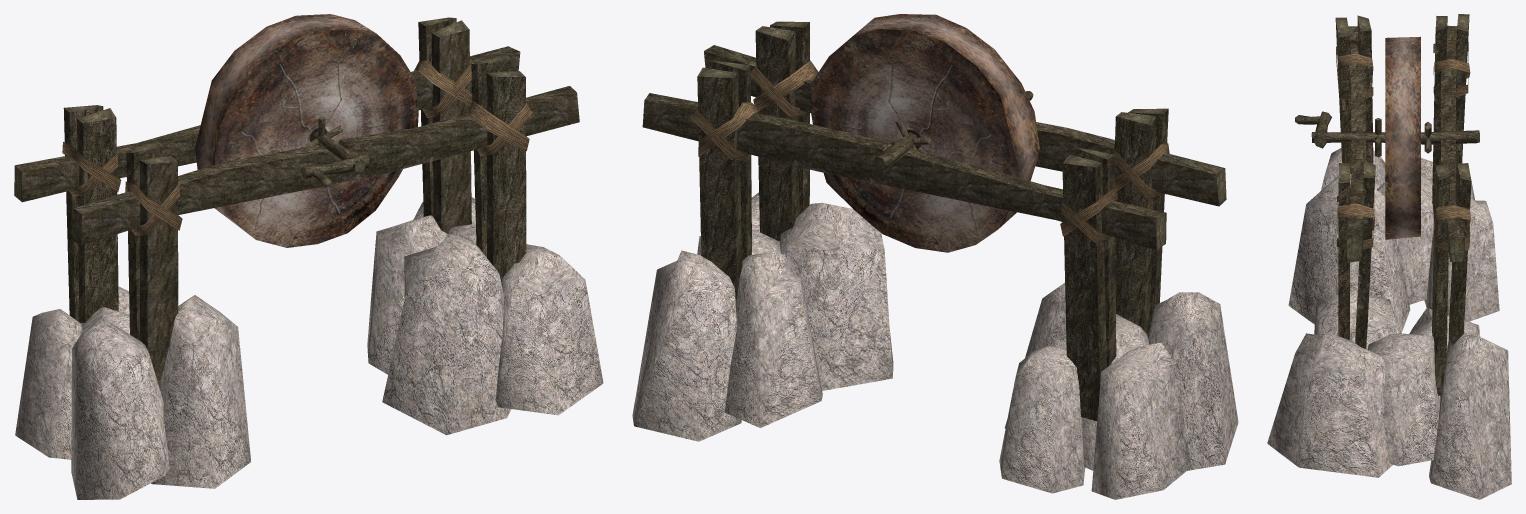
The model's file is thm_dant_cooking_stone_l0.fbx.
The picture shows the model from 3 angles, left to right: view 1: azimuth 30°, elevation 25°; view 2: azimuth 150°, elevation 25°; view 3: azimuth 270°, elevation 25°; orthographic projection. The views are drawn at different scales.
Visible parts, largest first — view 1: mesh_node; view 2: mesh_node; view 3: mesh_node.
Part boxes in pixels (<box>): mesh_node: <box>14,14,603,499</box>; mesh_node: <box>632,14,1238,499</box>; mesh_node: <box>1267,14,1511,499</box>.
Bounding box in the file's own units: 2.53 × 1.96 × 1.21.
